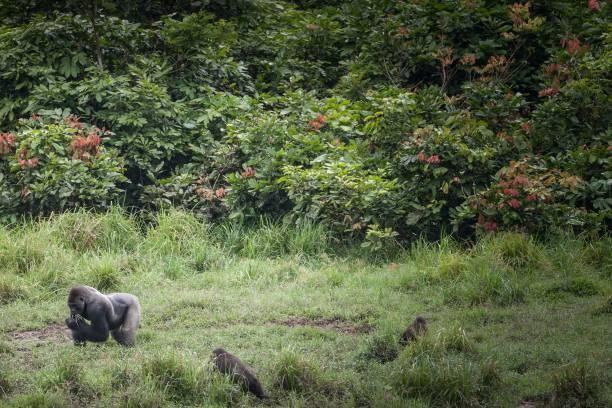gorille_Autres: (54, 278, 161, 351)
